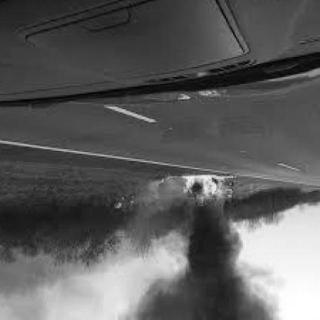Fire: (167, 173, 246, 209)
Smoke: (130, 212, 283, 320)
